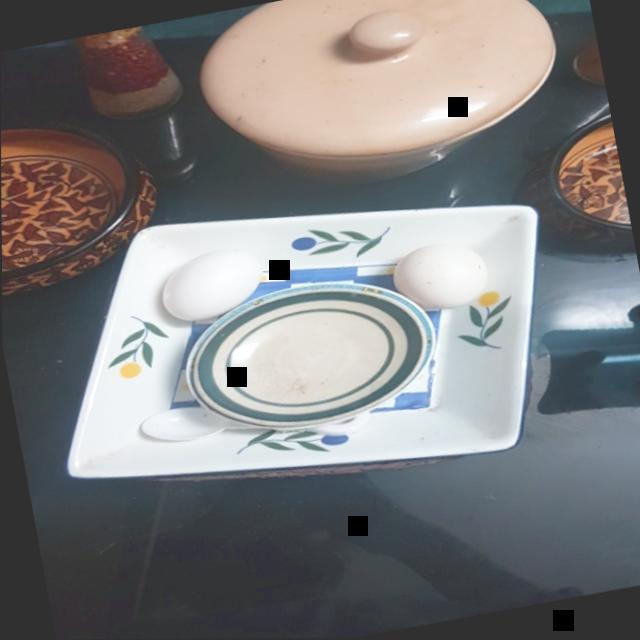eggs: (152, 241, 273, 324), (386, 234, 495, 319)
